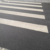zebra: (1, 1, 48, 33)
